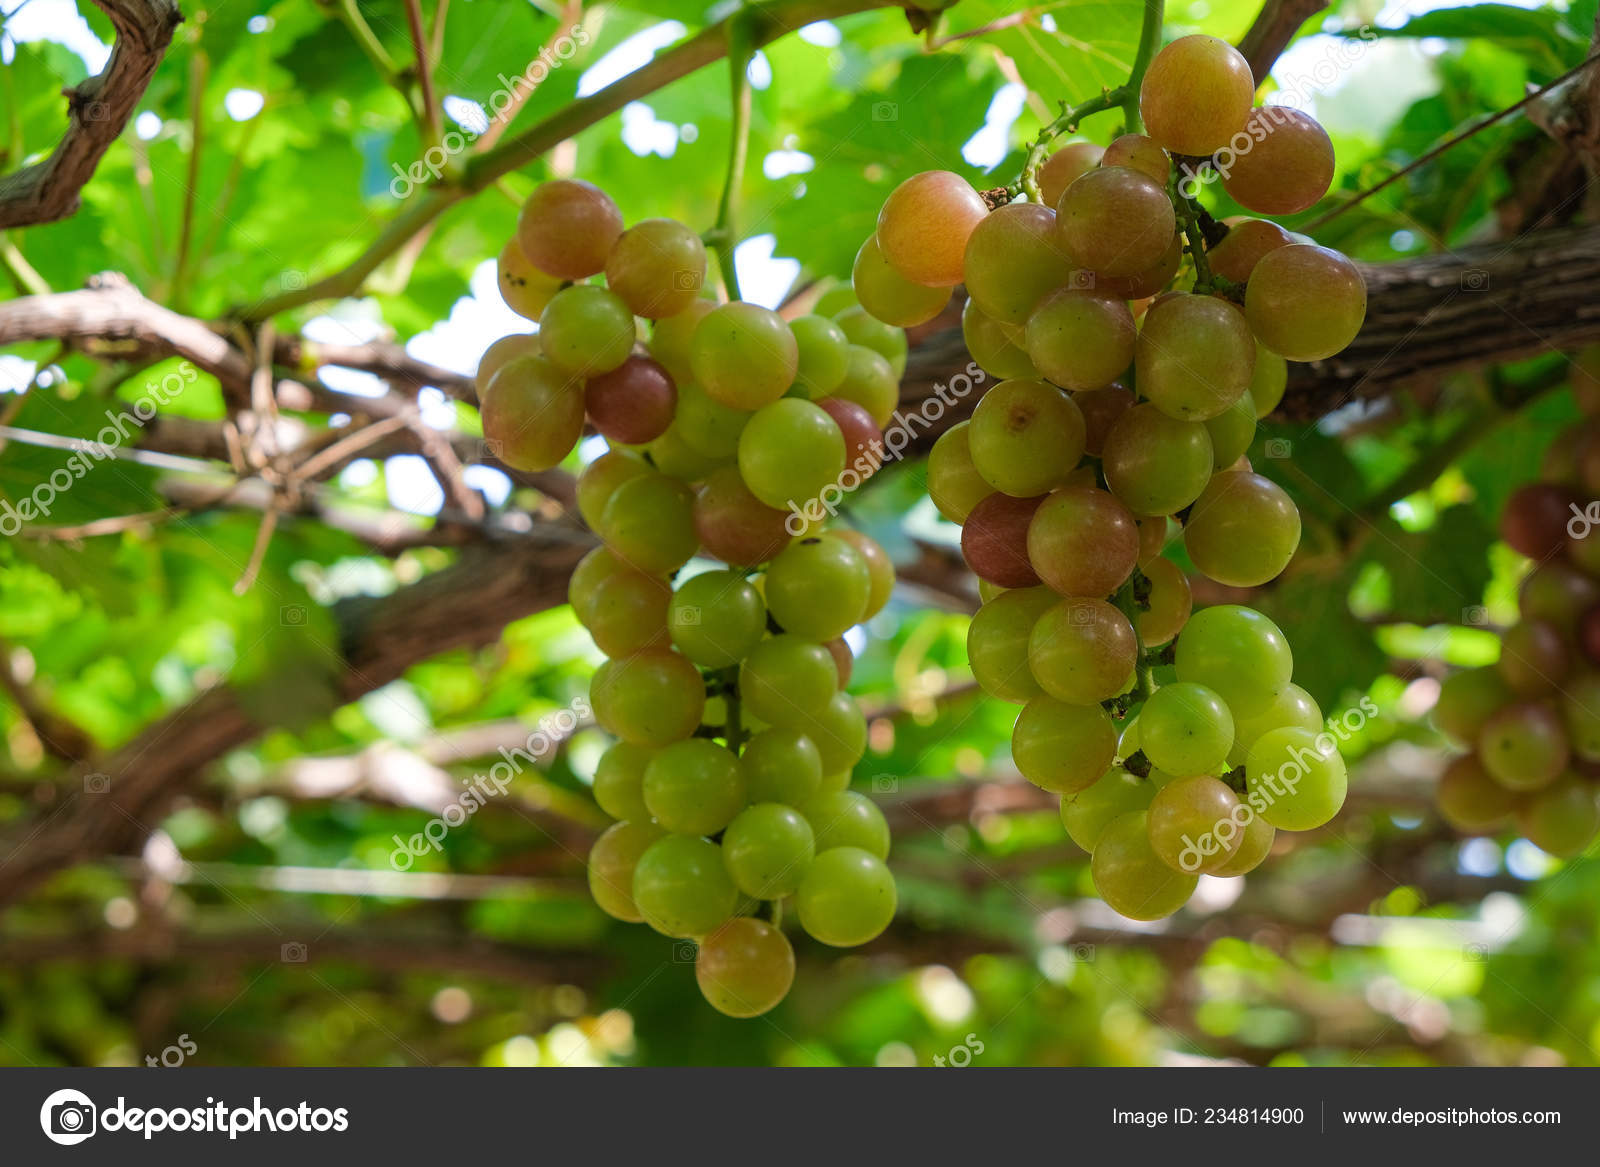grapes: (902, 128, 1420, 938), (457, 181, 948, 1022)
